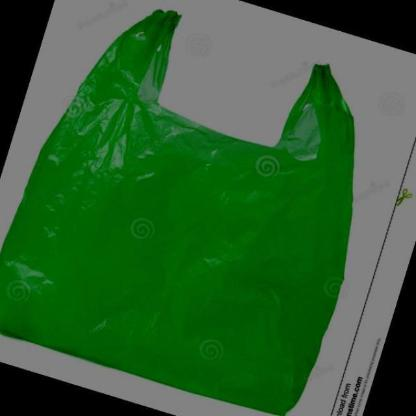Plastic Bag: (0, 8, 356, 416)
